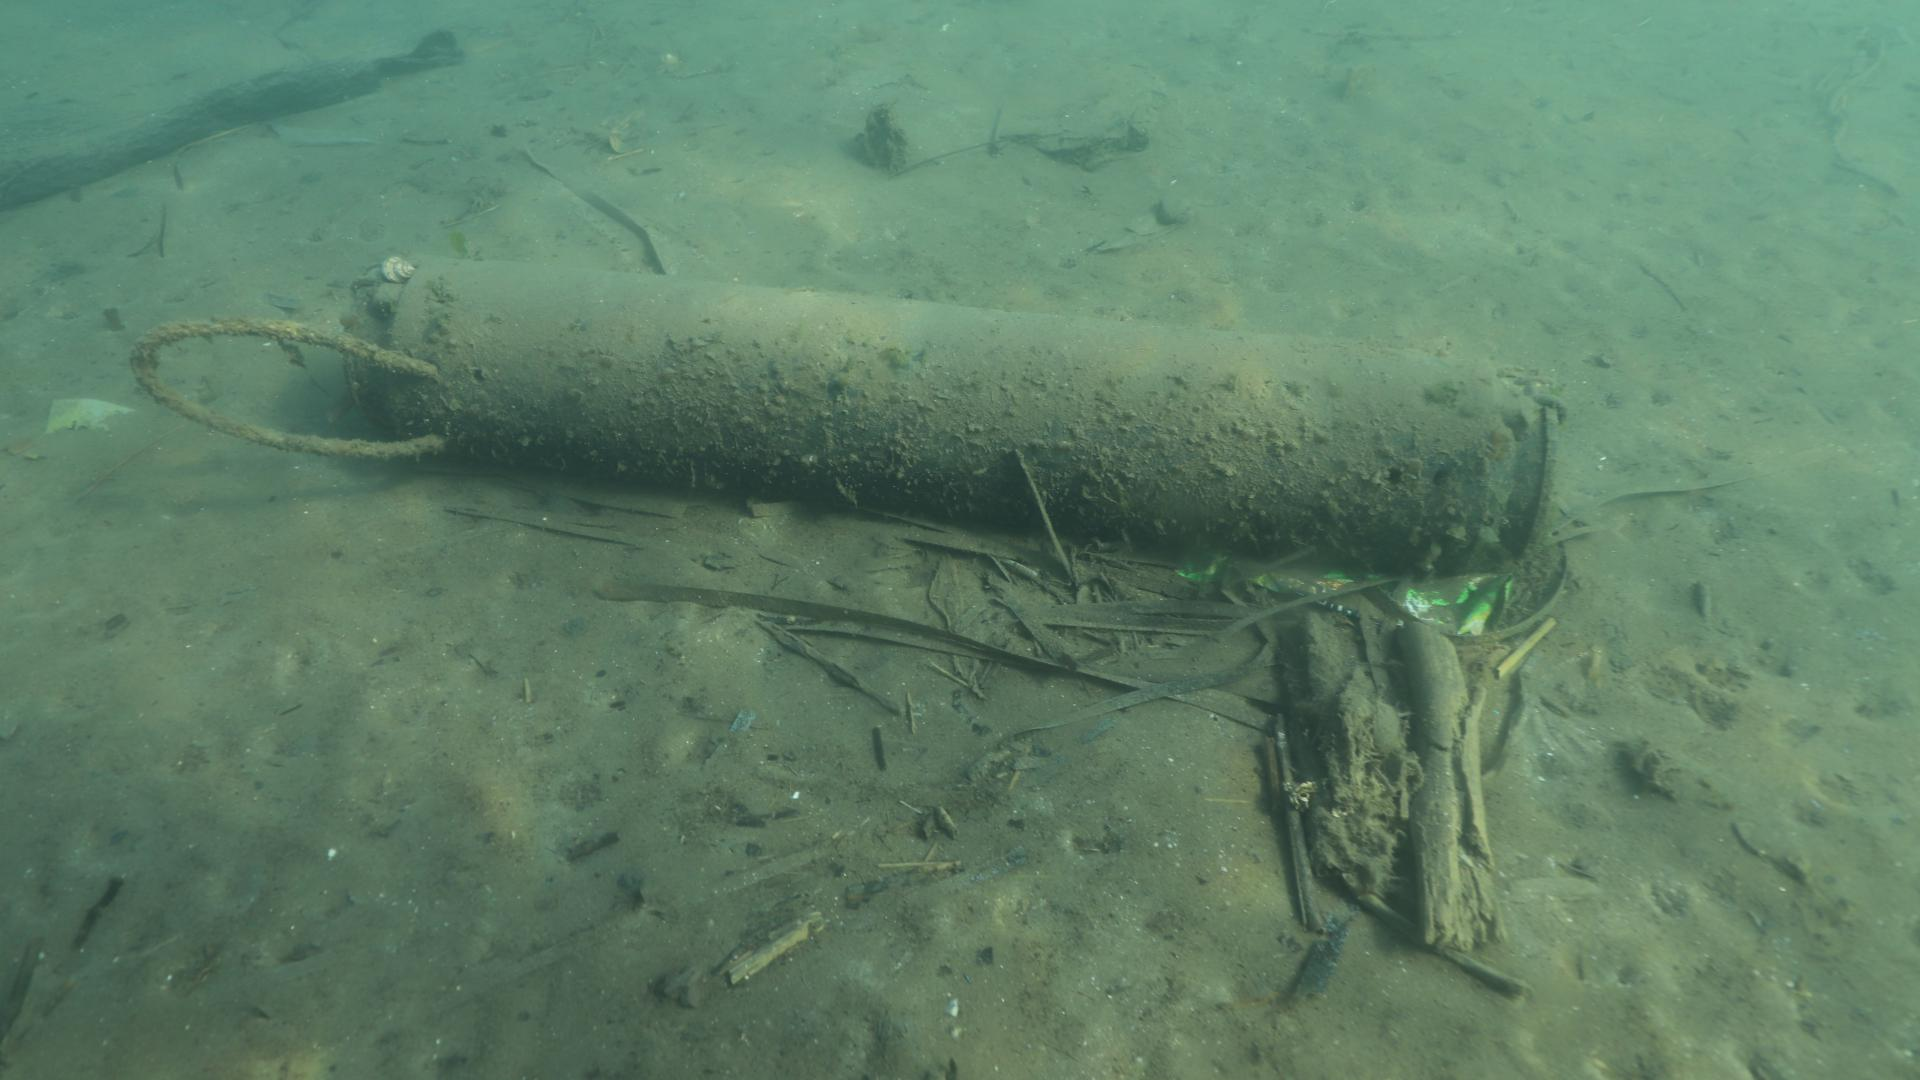eel fish trap: (357, 241, 1563, 567)
rope: (131, 316, 448, 462)
